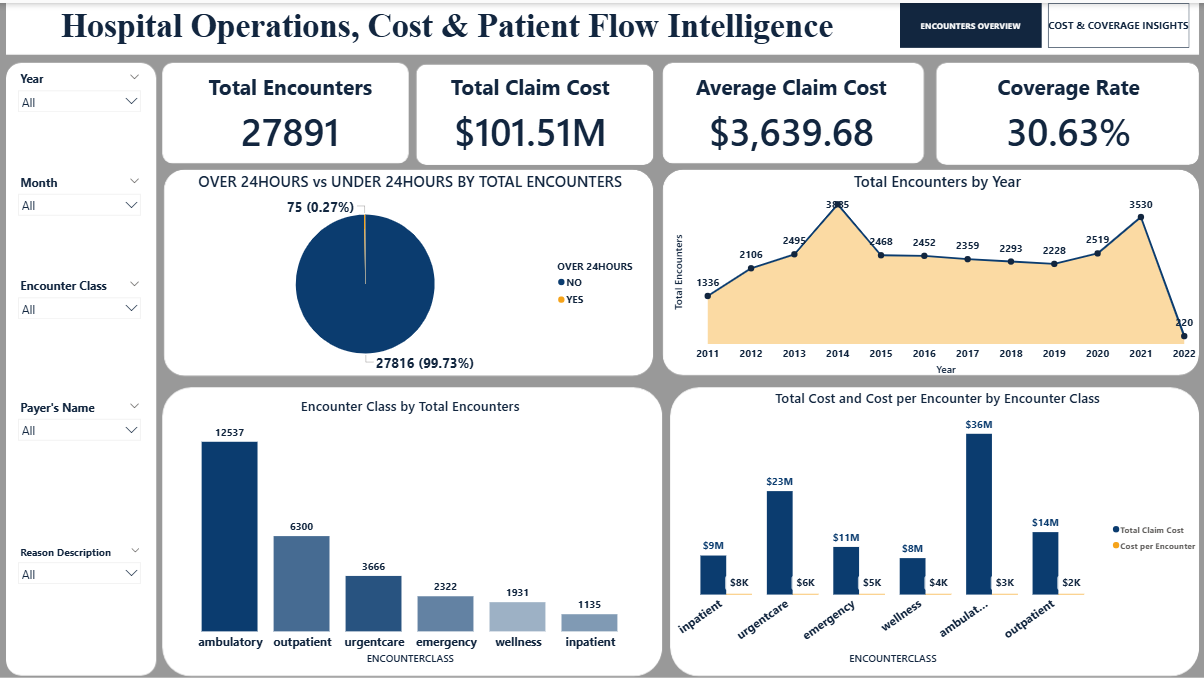

Layout of this report page (visuals, bound fields, positions):
{"tool":"powerbi","page":{"name":"ENCOUNTERS OVERVIEW","canvas":[1920,1080],"ordinal":0},"visuals":[{"type":"areaChart","fields":{"Category":["encounters.START.Variation.Date Hierarchy.Year"],"Y":["encounters.Total Encounters"]},"box":[1066.5,267.2,849.4,329.3],"z":0},{"type":"pieChart","title":"OVER 24HOURS vs UNDER 24HOURS BY TOTAL ENCOUNTERS","fields":{"Category":["encounters.OVER 24HOURS"],"Y":["encounters.Total Encounters"]},"box":[269.6,267.2,765.9,326.9],"z":1000},{"type":"cardVisual","fields":{"Data":["encounters.Total Encounters"]},"box":[269.6,93.1,384.1,157.5],"z":2000},{"type":"cardVisual","fields":{"Data":["encounters.Total Claim Cost"]},"box":[651.4,93.1,384.1,157.5],"z":3000},{"type":"cardVisual","fields":{"Data":["encounters.Average Claim Cost"]},"box":[1066.5,93.1,384.1,157.5],"z":4000},{"type":"cardVisual","fields":{"Data":["encounters.Coverage Rate"]},"box":[1507.9,93.1,384.1,157.5],"z":5000},{"type":"textbox","box":[40.6,0,1340.9,71.6],"z":6000},{"type":"pageNavigator","box":[1431.5,0,460.5,71.6],"z":7000},{"type":"slicer","fields":{"Values":["encounters.START.Variation.Date Hierarchy.Year"]},"box":[19.1,102.6,214.7,147.9],"z":8000},{"type":"slicer","fields":{"Values":["encounters.ENCOUNTERCLASS"]},"box":[19.1,431.9,214.7,164.6],"z":9000},{"type":"slicer","fields":{"Values":["payers.NAME"]},"box":[19.1,625.1,214.7,200.4],"z":10000},{"type":"slicer","fields":{"Values":["encounters.REASONDESCRIPTION"]},"box":[19.1,856.5,214.7,200.4],"z":11000},{"type":"slicer","fields":{"Values":["encounters.START.Variation.Date Hierarchy.Month"]},"box":[19.1,267.2,214.7,147.9],"z":12000},{"type":"lineClusteredColumnComboChart","title":"Total Cost and Cost per Encounter by Encounter Class","fields":{"Category":["encounters.ENCOUNTERCLASS"],"Y":["encounters.Total Claim Cost","encounters.Cost per Encounter"]},"box":[1066.5,613.2,849.4,443.8],"z":13000},{"type":"columnChart","title":"Encounter Class by Total Encounters","fields":{"Category":["encounters.ENCOUNTERCLASS"],"Y":["encounters.Total Encounters"]},"box":[270.4,625.8,765.6,431.4],"z":13001}]}

Visuals, with their boxes in screenshot pixels (x1, y1, x2, y2), scaled from the page's 1920x1080 canvas onto the 1204x681 screenshot:
areaChart - encounters.START.Variation.Date Hierarchy.Year x encounters.Total Encounters: [x1=669, y1=168, x2=1201, y2=376]
"OVER 24HOURS vs UNDER 24HOURS BY TOTAL ENCOUNTERS" pieChart: [x1=169, y1=168, x2=649, y2=375]
cardVisual - encounters.Total Encounters: [x1=169, y1=59, x2=410, y2=158]
cardVisual - encounters.Total Claim Cost: [x1=408, y1=59, x2=649, y2=158]
cardVisual - encounters.Average Claim Cost: [x1=669, y1=59, x2=910, y2=158]
cardVisual - encounters.Coverage Rate: [x1=946, y1=59, x2=1186, y2=158]
textbox: [x1=25, y1=0, x2=866, y2=45]
pageNavigator: [x1=898, y1=0, x2=1186, y2=45]
slicer - encounters.START.Variation.Date Hierarchy.Year: [x1=12, y1=65, x2=147, y2=158]
slicer - encounters.ENCOUNTERCLASS: [x1=12, y1=272, x2=147, y2=376]
slicer - payers.NAME: [x1=12, y1=394, x2=147, y2=521]
slicer - encounters.REASONDESCRIPTION: [x1=12, y1=540, x2=147, y2=666]
slicer - encounters.START.Variation.Date Hierarchy.Month: [x1=12, y1=168, x2=147, y2=262]
"Total Cost and Cost per Encounter by Encounter Class" lineClusteredColumnComboChart: [x1=669, y1=387, x2=1201, y2=666]
"Encounter Class by Total Encounters" columnChart: [x1=170, y1=395, x2=650, y2=667]
